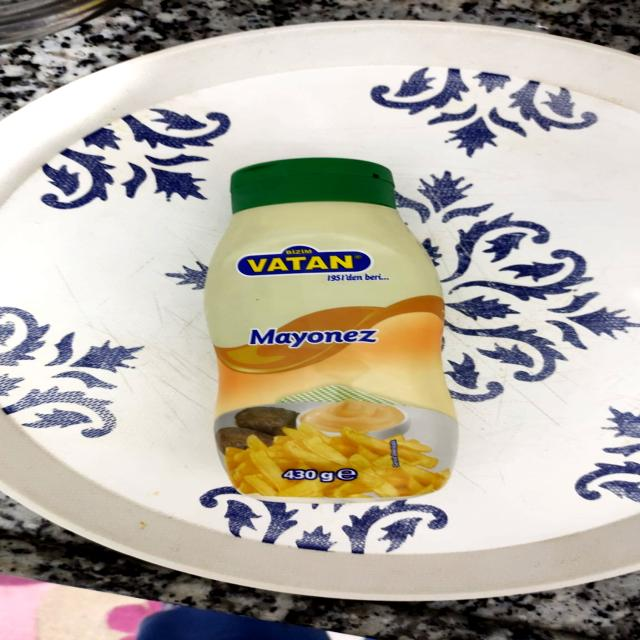mayonnaise: (183, 143, 476, 514)
